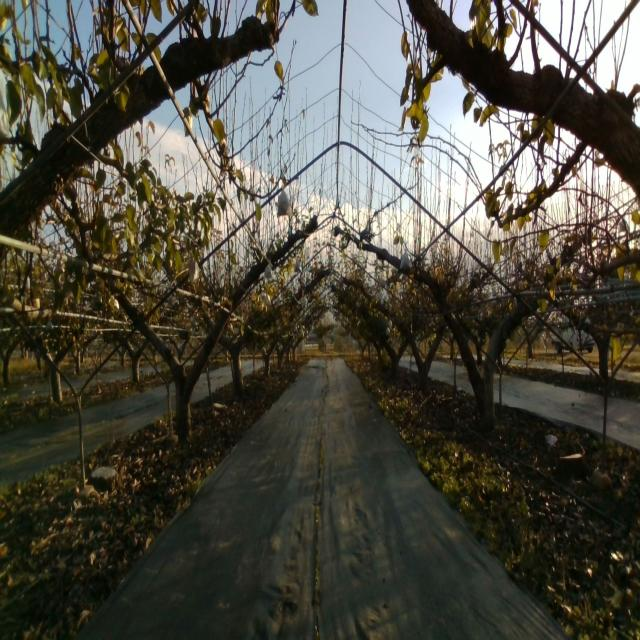pearbags: (276, 187, 292, 218), (188, 259, 200, 286), (399, 249, 413, 271)
